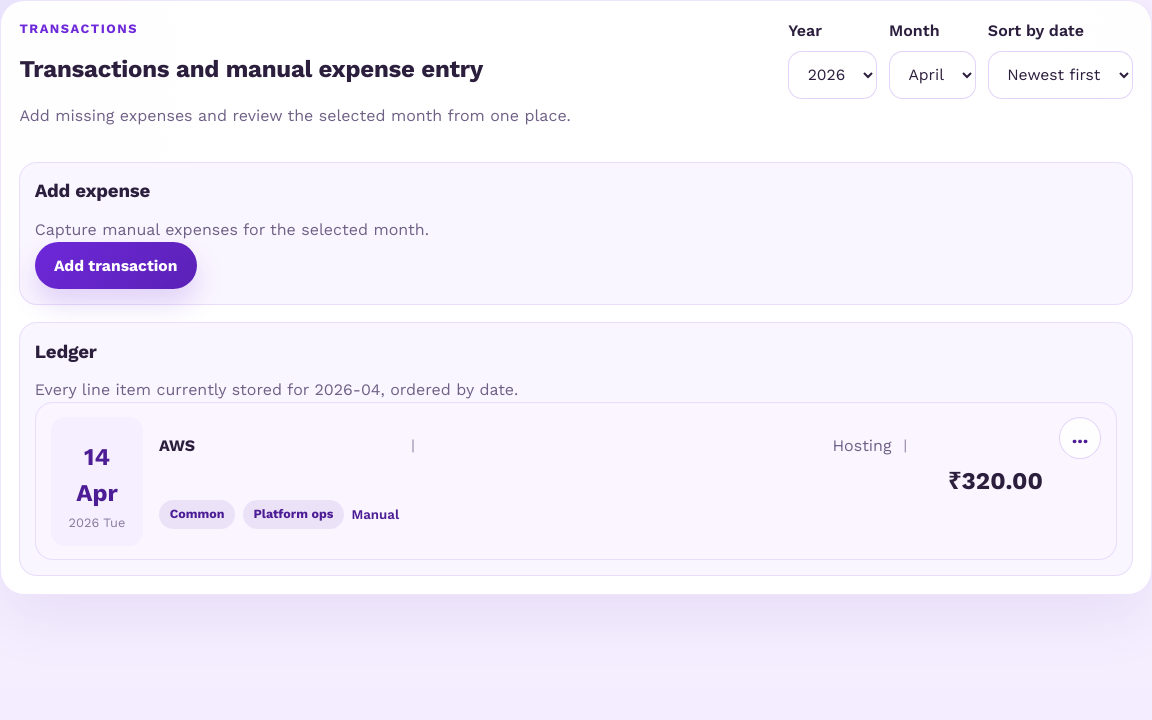
Test: transactions page can move a transaction back to review
The image size is (1152, 720).
Expected: the text "Transactions" is shown, top-left (19, 21), bottom-right (138, 36)
Expected: the number of elements with test id "transaction-row" is 1, top-left (35, 402), bottom-right (1117, 560)
Step 1. Click the button named "more actions for aws" → (1080, 438), box top-left (1059, 417), bottom-right (1101, 459)
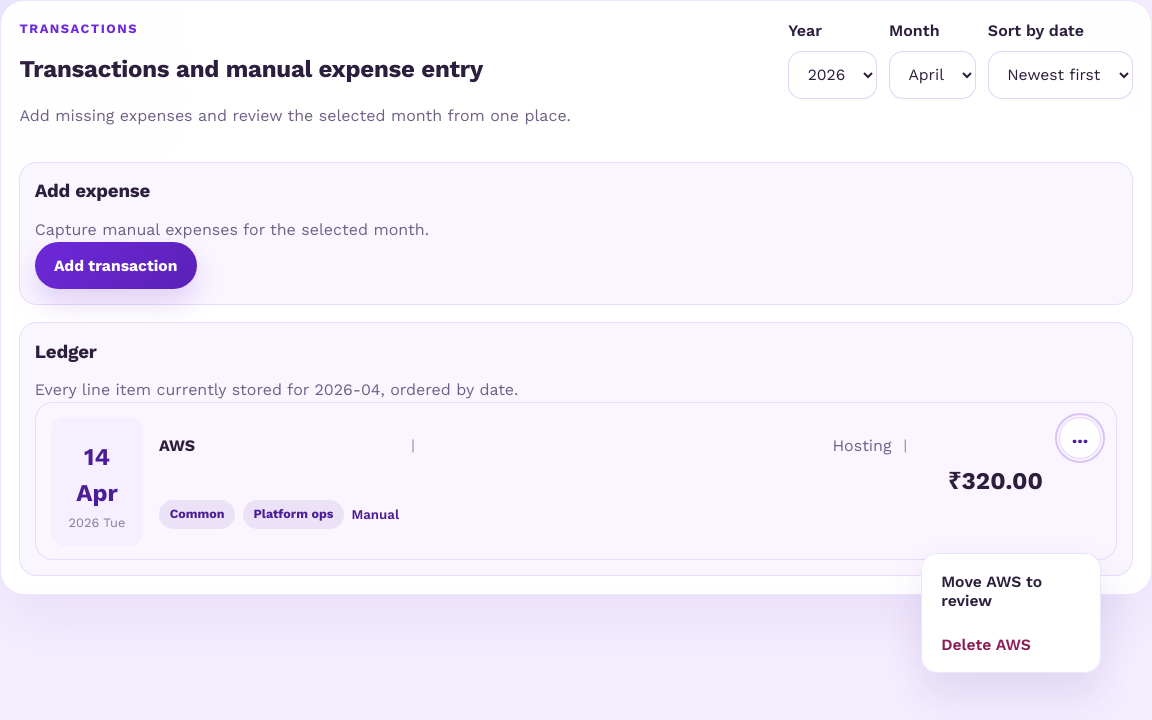
Step 2. Click the button "Move AWS to review" → (1011, 590), box top-left (928, 560), bottom-right (1094, 621)
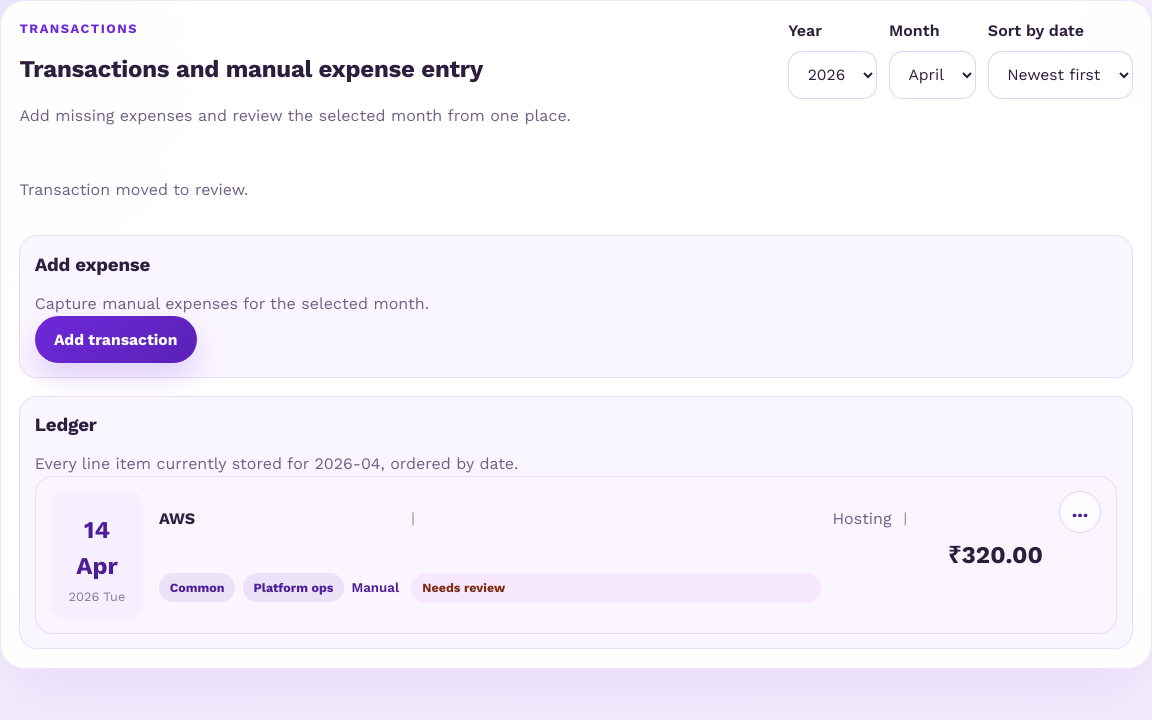
Expected: the text "Needs review" is shown, top-left (411, 573), bottom-right (820, 603)
